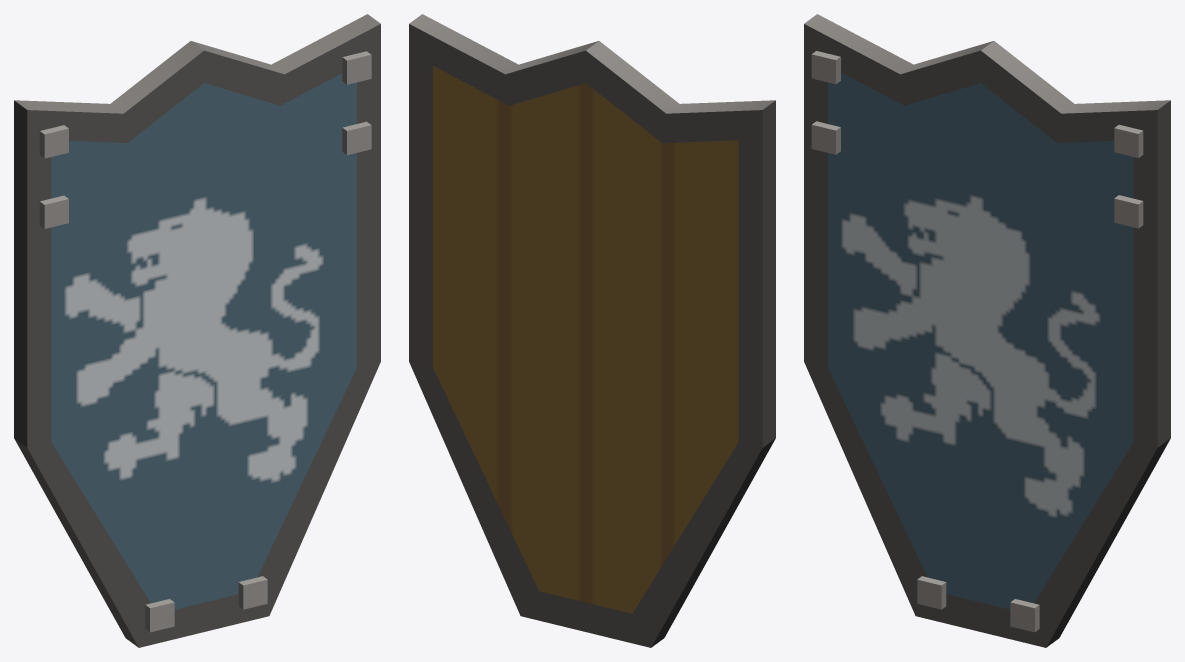
File: SF_Wep_Human_Shield_01.fbx
3 renders of one model, left to right at view 1: azimuth 30°, elevation 25°; view 2: azimuth 150°, elevation 25°; view 3: azimuth 330°, elevation 25°, orthographic.
Visible parts, largest first — view 1: SF_Wep_Human_Shield_01; view 2: SF_Wep_Human_Shield_01; view 3: SF_Wep_Human_Shield_01.
Boxes of the visible parts, bbox=[...] form: SF_Wep_Human_Shield_01: bbox=[14, 14, 380, 647]; SF_Wep_Human_Shield_01: bbox=[409, 14, 775, 647]; SF_Wep_Human_Shield_01: bbox=[804, 14, 1170, 647].
Size of the model in its own units: 0.9564 by 1.5 by 0.0851.
